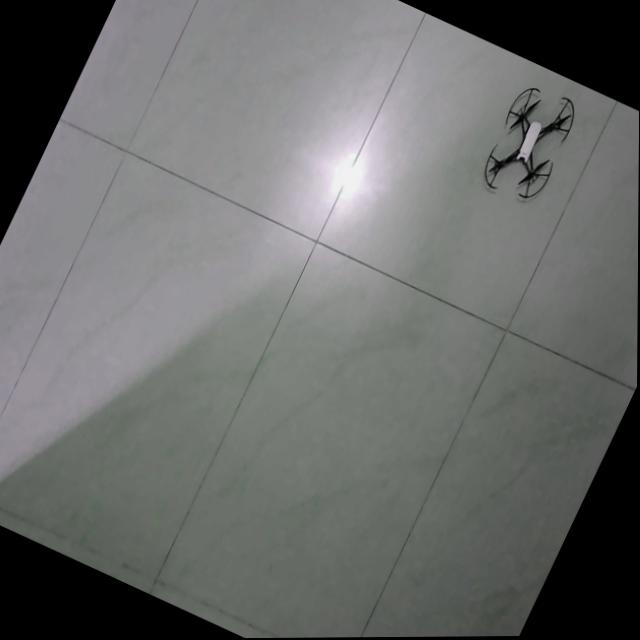drone: (484, 88, 575, 201)
